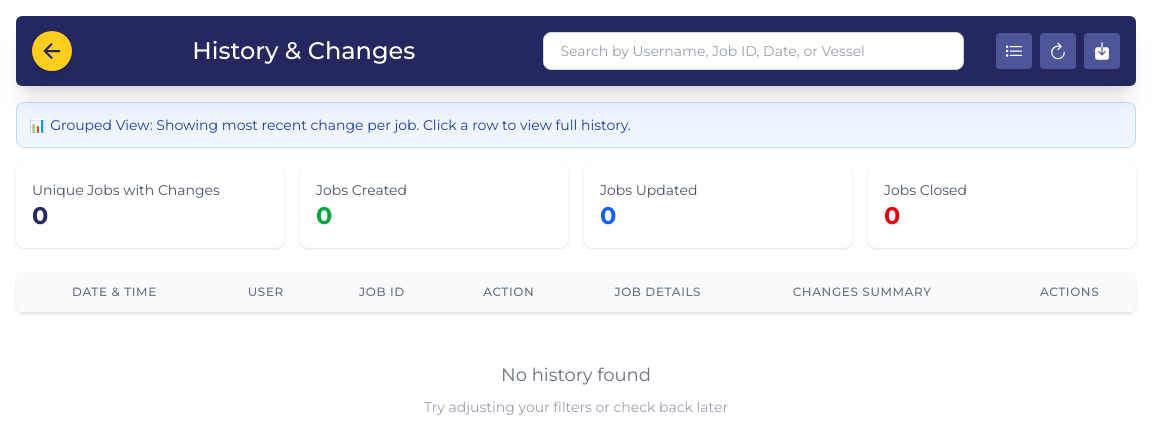
Test case: Reopen Job buttons › Closed job rows show a "Reopen job" button
Click the button titled "Switch to Flat View" at x=1014, y=51, box [996,33,1032,69]
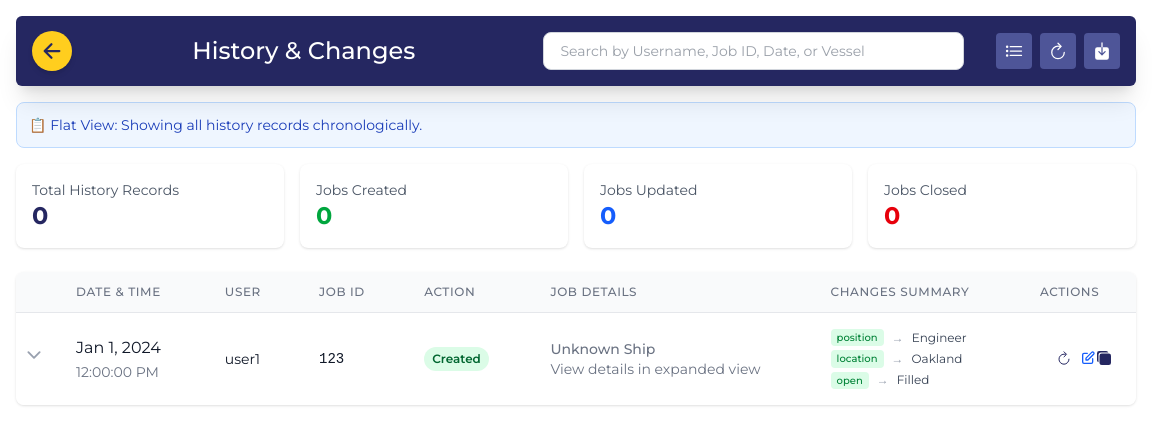
Check: the button titled "Reopen job" is shown, box [1048,346,1080,370]
